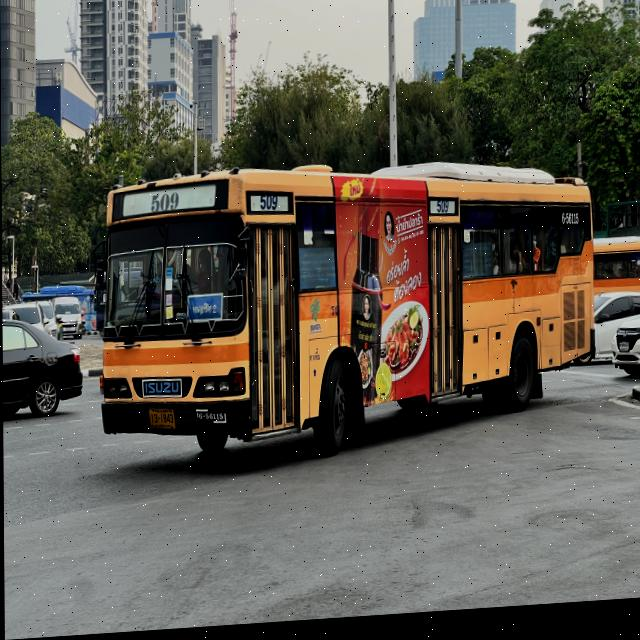BMTA-bus: (90, 144, 597, 480)
Bus-Line-Number: (147, 192, 182, 215)
Destination-Sign-Normal: (186, 296, 222, 324)
